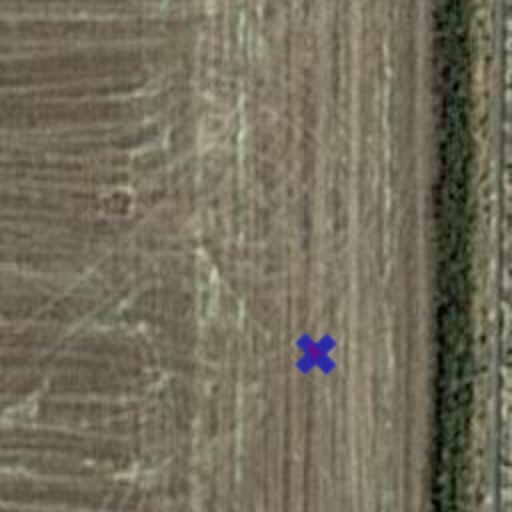cross: (282, 320, 350, 388)
